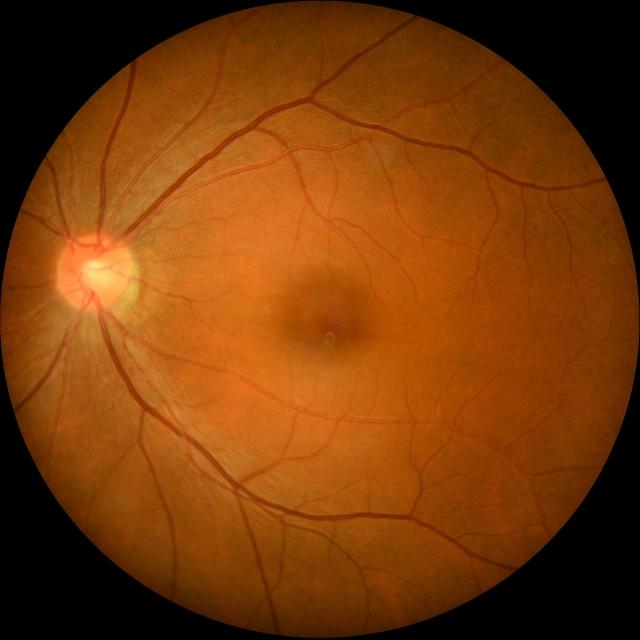OC: (81, 256, 113, 293)
OD: (54, 232, 131, 314)
